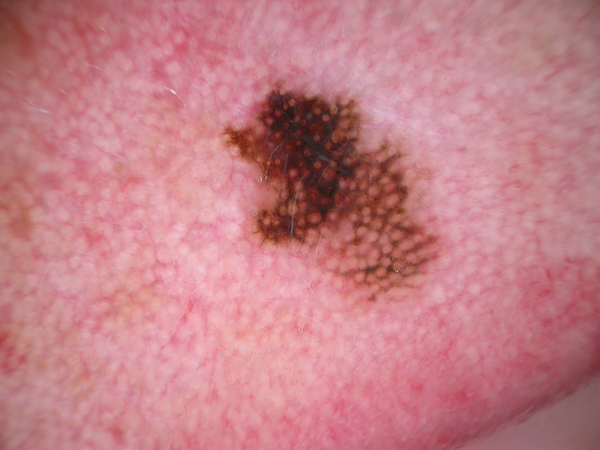Detected Lesion: (215, 81, 450, 303)
